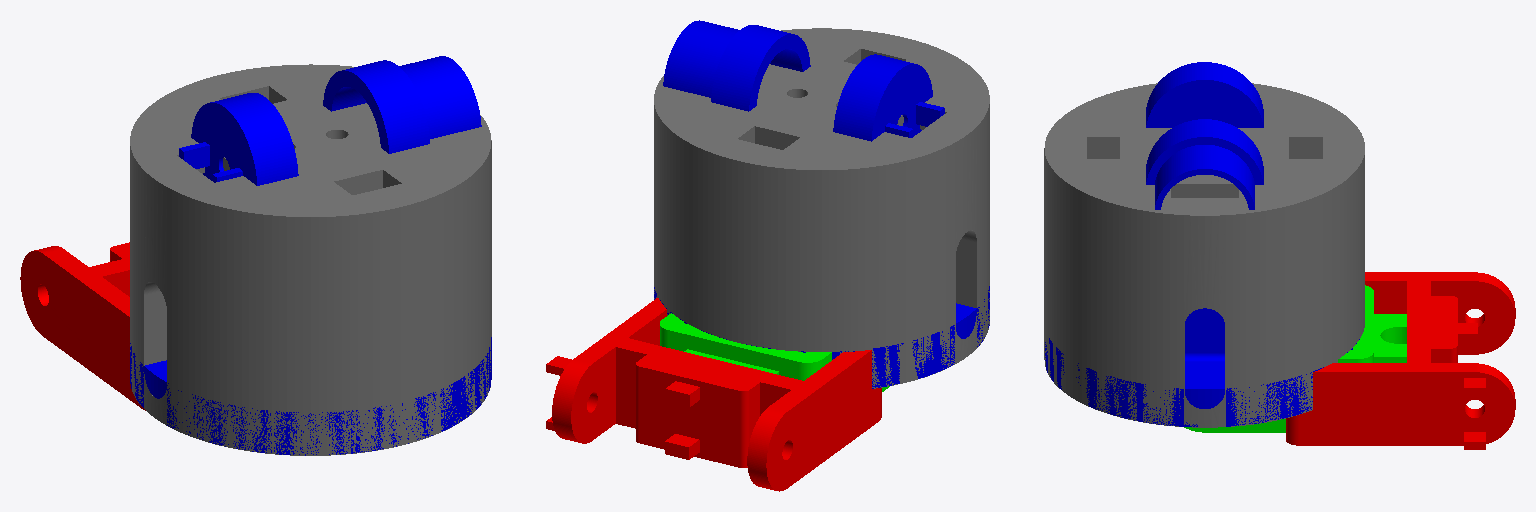
URDF robot description (my_robot):
<?xml version="1.0" ?>
<robot name="my_robot">
  <!-- Base Link -->
  <link name="base_link">
    <visual>
      <geometry>
        <mesh filename="package/my_robot_description/base.stl" scale="1 1 1"/>
      </geometry>
      <material name="gray">
        <color rgba="0.5 0.5 0.5 1.0"/>
      </material>
    </visual>
    <collision>
      <geometry>
        <mesh filename="package/my_robot_description/base.stl" scale="1 1 1"/>
      </geometry>
    </collision>
    <inertial>
      <mass value="5.0"/>
      <origin xyz="0 0 0" rpy="0 0 0"/>
      <inertia ixx="0.1" ixy="0.0" ixz="0.0" iyy="0.1" iyz="0.0" izz="0.1"/>
    </inertial>
  </link>

  <!-- Link 1 -->
  <link name="link1">
    <visual>
      <geometry>
        <mesh filename="package/my_robot_description/link1.stl" scale="1 1 1"/>
      </geometry>
      <material name="blue">
        <color rgba="0 0 1 1"/>
      </material>
    </visual>
    <collision>
      <geometry>
        <mesh filename="package/my_robot_description/link1.stl" scale="1 1 1"/>
      </geometry>
    </collision>
    <inertial>
      <mass value="2.0"/>
      <origin rpy="0 0 0" xyz="0 0 0.4"/>
      <inertia ixx="0.05" ixy="0.0" ixz="0.0" iyy="0.05" iyz="0.0" izz="0.05"/>
    </inertial>
  </link>

  <!-- Link 2 -->
  <link name="link2">
    <visual>
      <geometry>
        <mesh filename="package/my_robot_description/link2.stl" scale="1 1 1"/>
      </geometry>
      <material name="red">
        <color rgba="1 0 0 1"/>
      </material>
    </visual>
    <collision>
      <geometry>
        <mesh filename="package/my_robot_description/link2.stl" scale="1 1 1"/>
      </geometry>
    </collision>
    <inertial>
      <mass value="2.0"/>
      <origin xyz="0 0 0" rpy="0 0 0"/>
      <inertia ixx="0.05" ixy="0.0" ixz="0.0" iyy="0.05" iyz="0.0" izz="0.05"/>
    </inertial>
  </link>

  <!-- Link 3 -->
  <link name="link3">
    <visual>
      <geometry>
        <mesh filename="package/my_robot_description/link3.stl" scale="1 1 1"/>
      </geometry>
      <material name="green">
        <color rgba="0 1 0 1"/>
      </material>
    </visual>
    <collision>
      <geometry>
        <mesh filename="package/my_robot_description/link3.stl" scale="1 1 1"/>
      </geometry>
    </collision>
    <inertial>
      <mass value="1.0"/>
      <origin xyz="0 0 0" rpy="0 0 0"/>
      <inertia ixx="0.02" ixy="0.0" ixz="0.0" iyy="0.02" iyz="0.0" izz="0.02"/>
    </inertial>
  </link>

  <!-- Joint 1: base_link to link1 -->
  <joint name="joint1" type="revolute">
    <parent link="base_link"/>
    <child link="link1"/>
    <origin xyz="0 0 0.1" rpy="0 0 0"/>
    <axis xyz="0 0 1"/>
    <limit lower="-1.57" upper="1.57" effort="100" velocity="1.0"/>
  </joint>

  <!-- Joint 2: link1 to link2 -->
  <joint name="joint2" type="revolute">
    <parent link="link1"/>
    <child link="link2"/>
    <origin xyz="0 0 0.2" rpy="0 0 0"/>
    <axis xyz="0 0 1"/>
    <limit lower="-1.57" upper="1.57" effort="100" velocity="1.0"/>
  </joint>

  <!-- Joint 3: link2 to link3 -->
  <joint name="joint3" type="revolute">
    <parent link="link2"/>
    <child link="link3"/>
    <origin xyz="0 0 0.2" rpy="0 0 0"/>
    <axis xyz="0 0 1"/>
    <limit lower="-1.57" upper="1.57" effort="100" velocity="1.0"/>
  </joint>
</robot>

--- Facts derived from the render (not from the file) ---
3 views of the same robot in one strip: view 1: azimuth 30°, elevation 25°; view 2: azimuth 150°, elevation 25°; view 3: azimuth 270°, elevation 25° (orthographic).
Model my_robot with 4 links and 3 joints (3 revolute), rooted at base_link, posed all joints at 0.
Visible links, largest first — view 1: base_link, link1, link2; view 2: base_link, link2, link1, link3; view 3: base_link, link2, link1, link3.
Link boxes in pixels (x1=…): base_link: x1=130, y1=64, x2=491, y2=455; link1: x1=130, y1=56, x2=491, y2=455; link2: x1=20, y1=242, x2=145, y2=410; base_link: x1=654, y1=28, x2=989, y2=388; link2: x1=546, y1=298, x2=881, y2=491; link1: x1=654, y1=20, x2=989, y2=388; link3: x1=660, y1=313, x2=889, y2=391; base_link: x1=1044, y1=83, x2=1364, y2=427; link2: x1=1286, y1=272, x2=1515, y2=449; link1: x1=1045, y1=62, x2=1359, y2=426; link3: x1=1184, y1=285, x2=1406, y2=432.
Size in the robot's own frame: 95 by 140 by 96.8 metres.
Meshes: 4 distinct files referenced, 4 mesh visuals loaded (4 binary STL).
